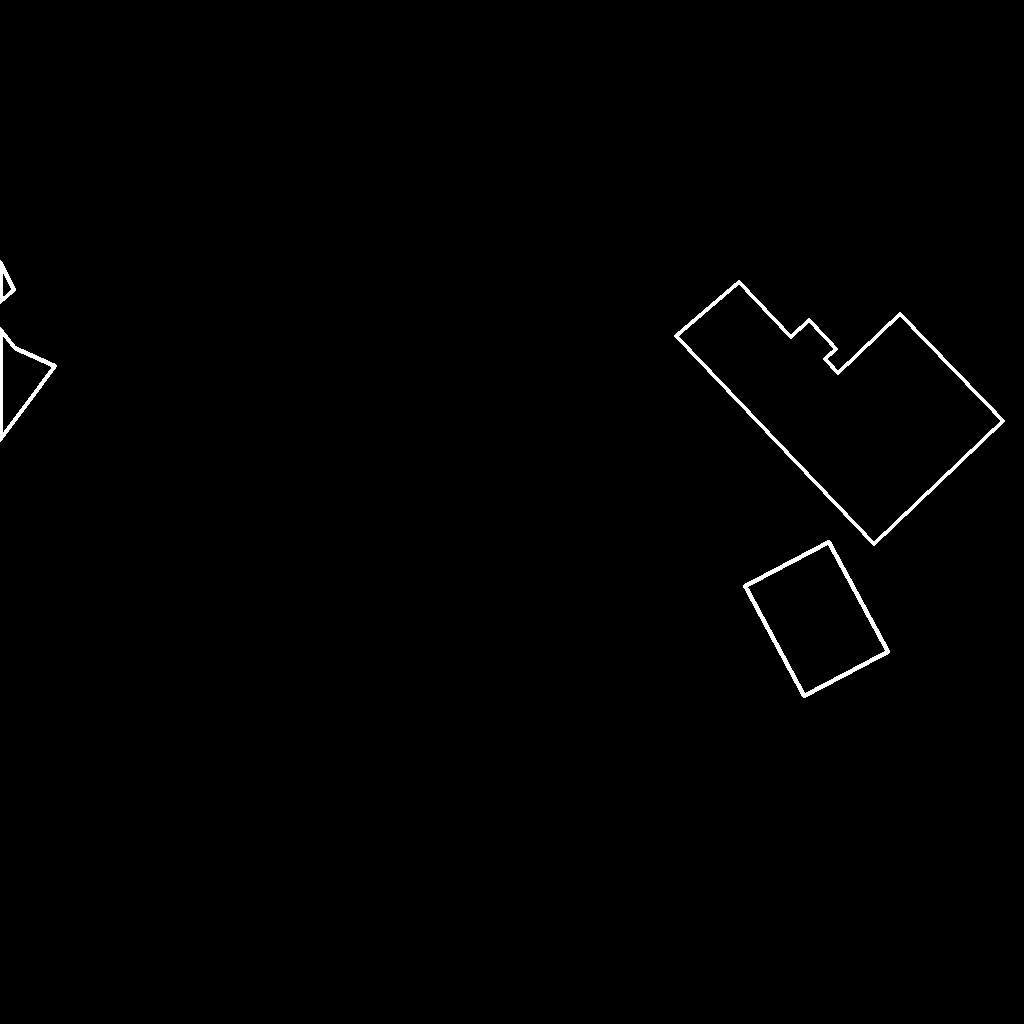building: (676, 282, 1004, 545), (745, 542, 889, 697), (0, 262, 56, 441)
